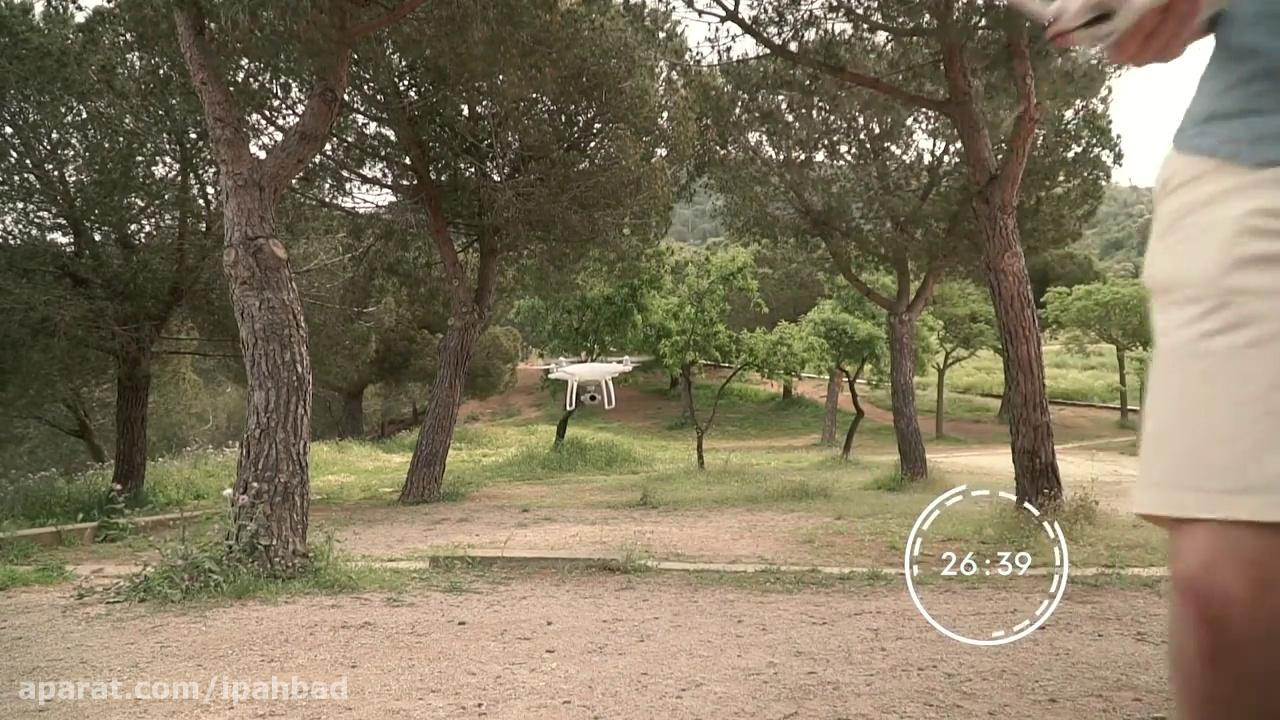drone: (539, 347, 658, 414)
